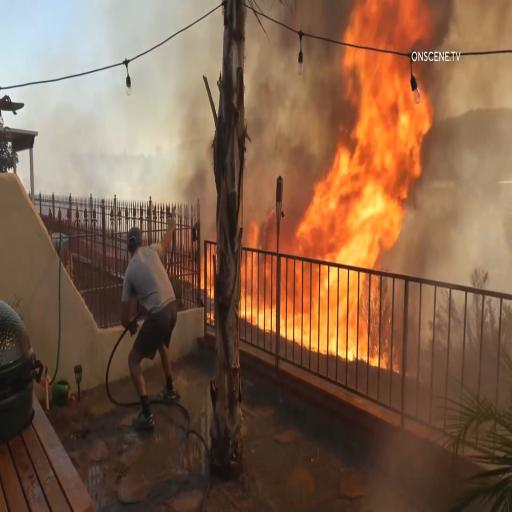fire: (295, 10, 408, 338), (249, 223, 395, 373)
smoke: (249, 6, 341, 206), (421, 72, 507, 270), (176, 4, 212, 197)
